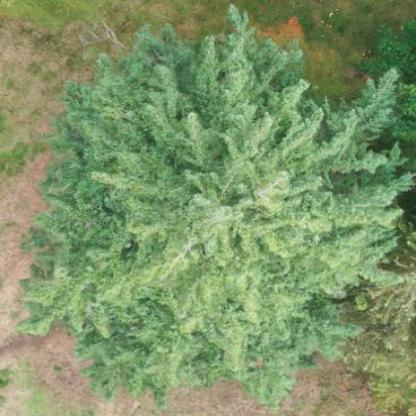Coniferous Tree: (33, 8, 402, 392)
